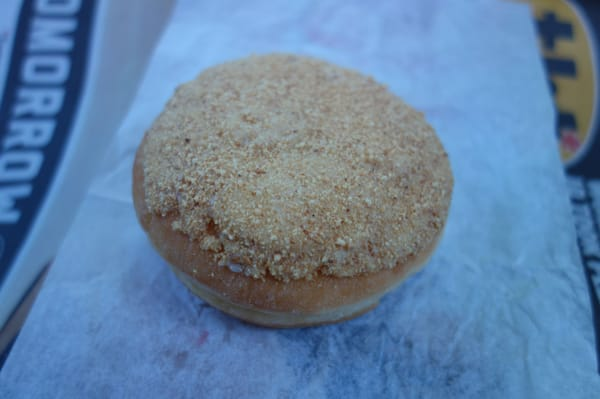sushi: (132, 54, 452, 322)
